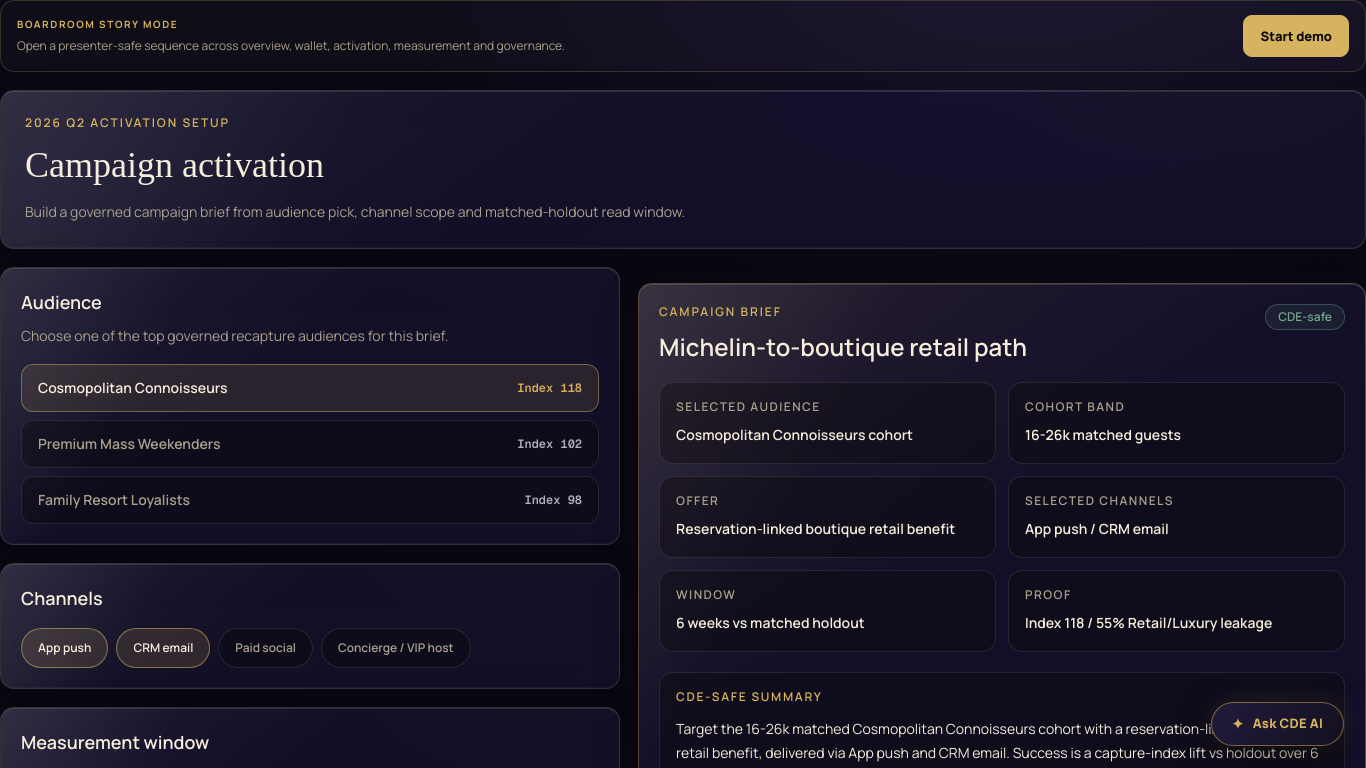
ConstellationRedesignScreen › renders Activation with working audience, channel, window, export, and AI controls
Expected: the heading "Campaign activation" is shown, [25,145,324,185]
Expected: the heading "Audience" is shown, [21,290,102,314]
Click the button named "Select Premium Mass Weekenders" at [129, 444], box [21,420,599,468]
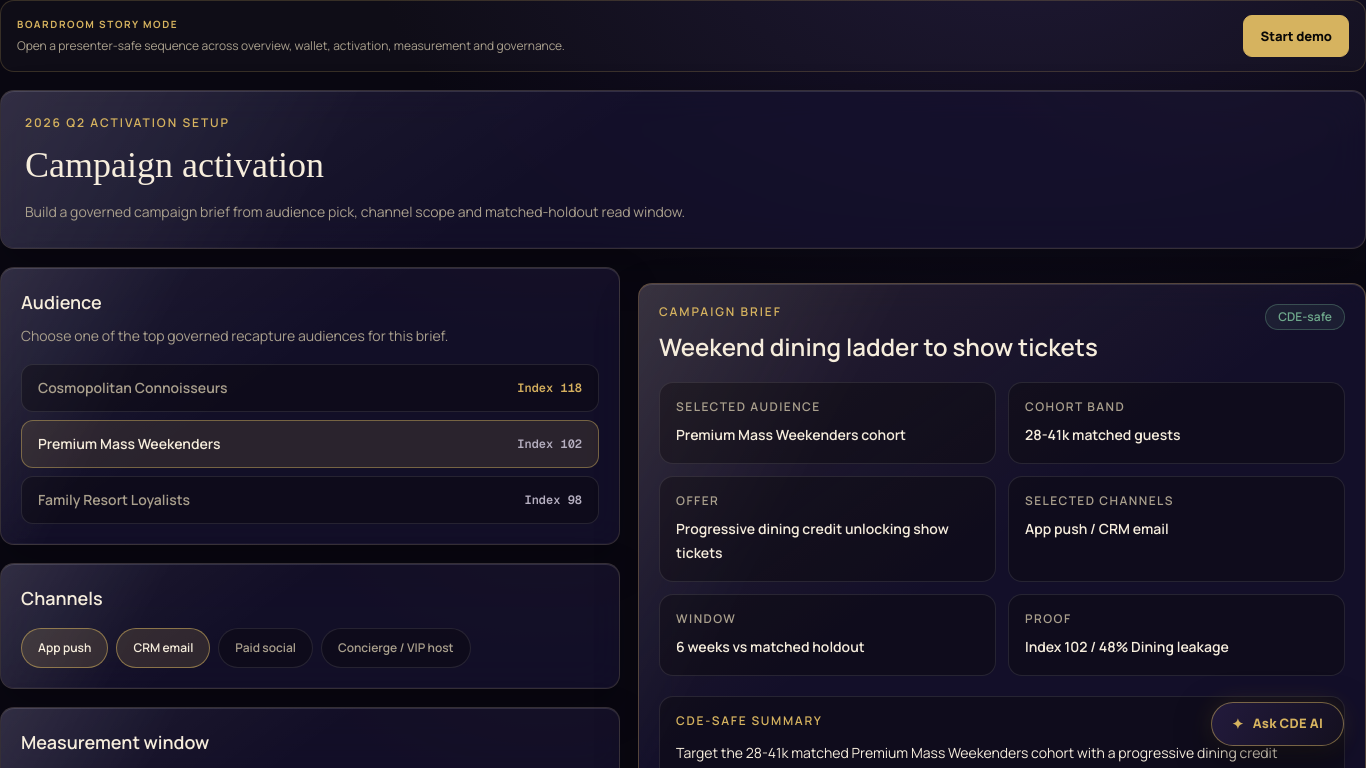
Expected: the text "Premium Mass Weekenders" is shown, [38,434,220,454]
Click the button "Paid social" at [266, 648], box [218,628,313,668]
(page scrolled)
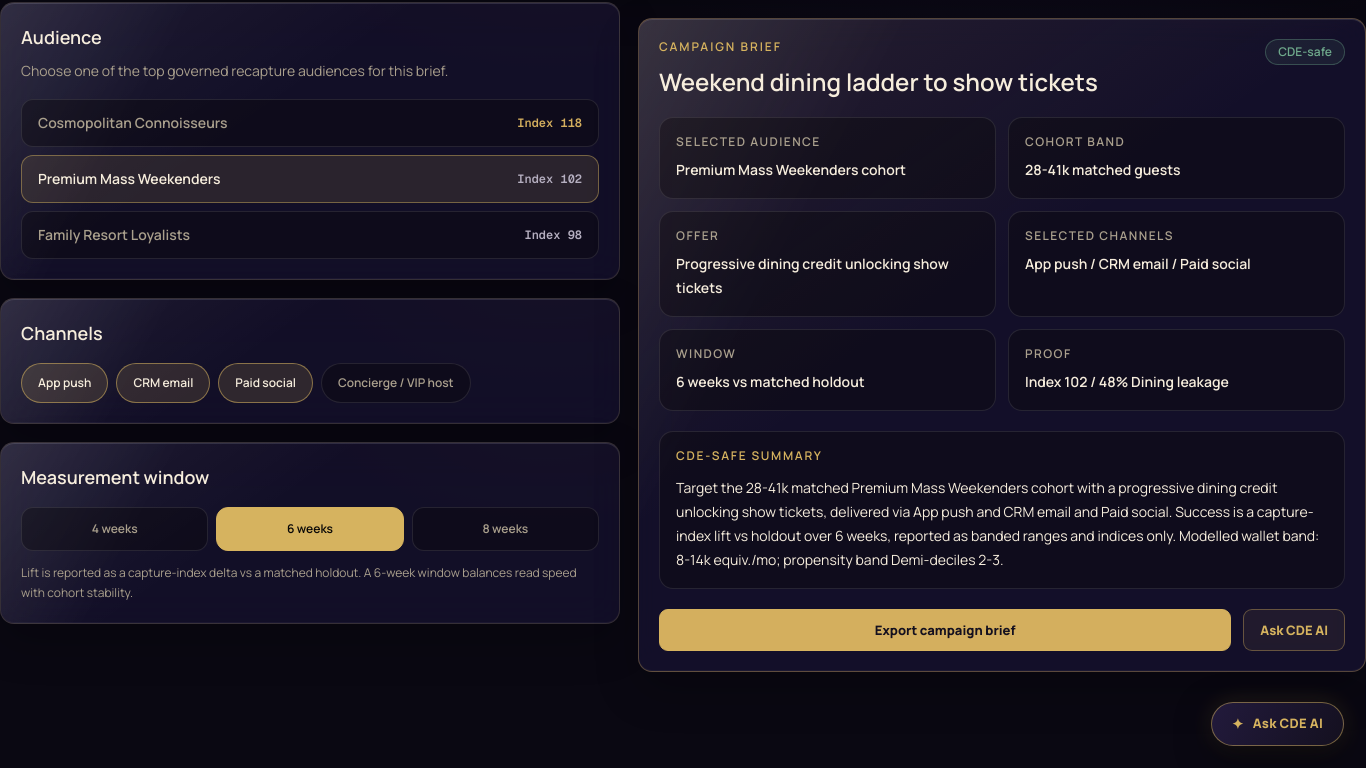
Now the text "App push / CRM email / Paid social" is shown, box [1025,254,1251,273]
Click the button "8 weeks" at [505, 529], box [412,507,599,551]
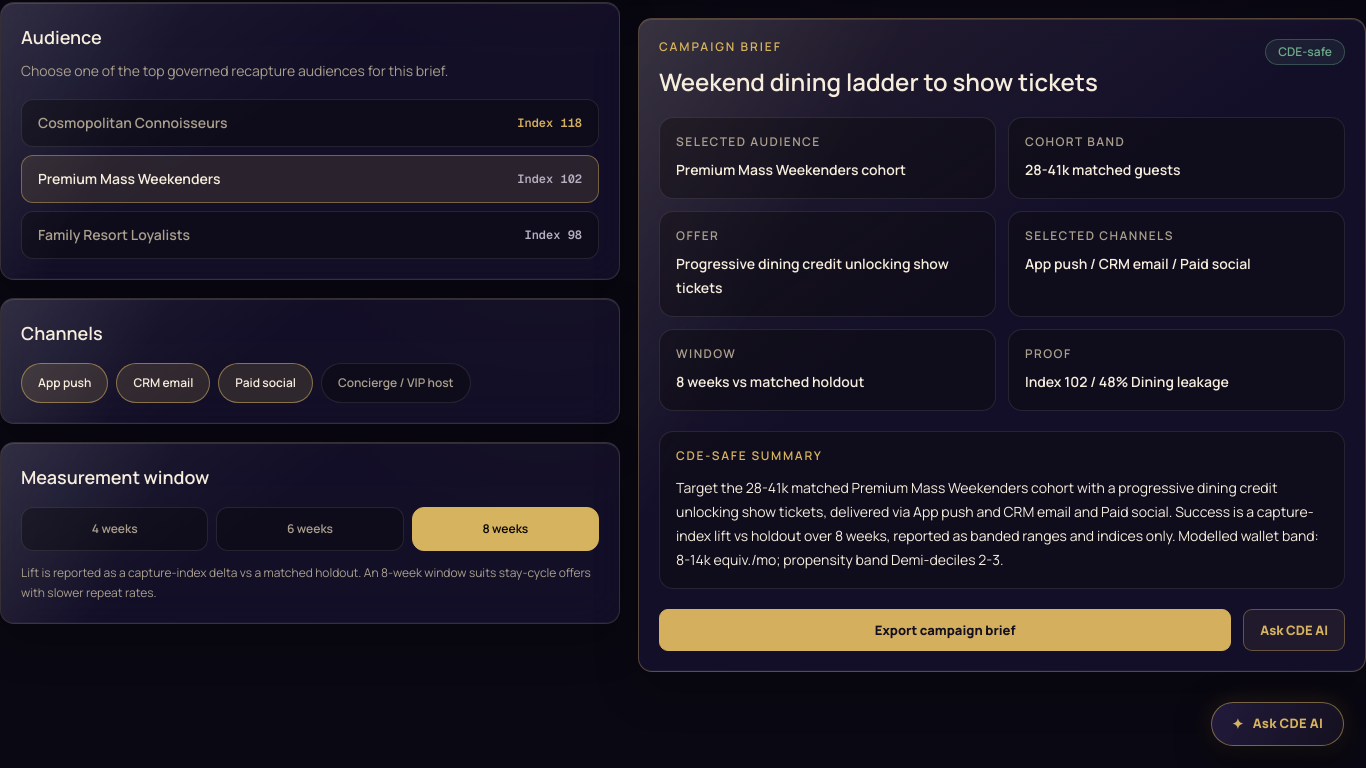
Now the text "8 weeks vs matched holdout" is shown, box [676,372,864,391]
Click the button "Export campaign brief" at [945, 630], box [659,609,1231,651]
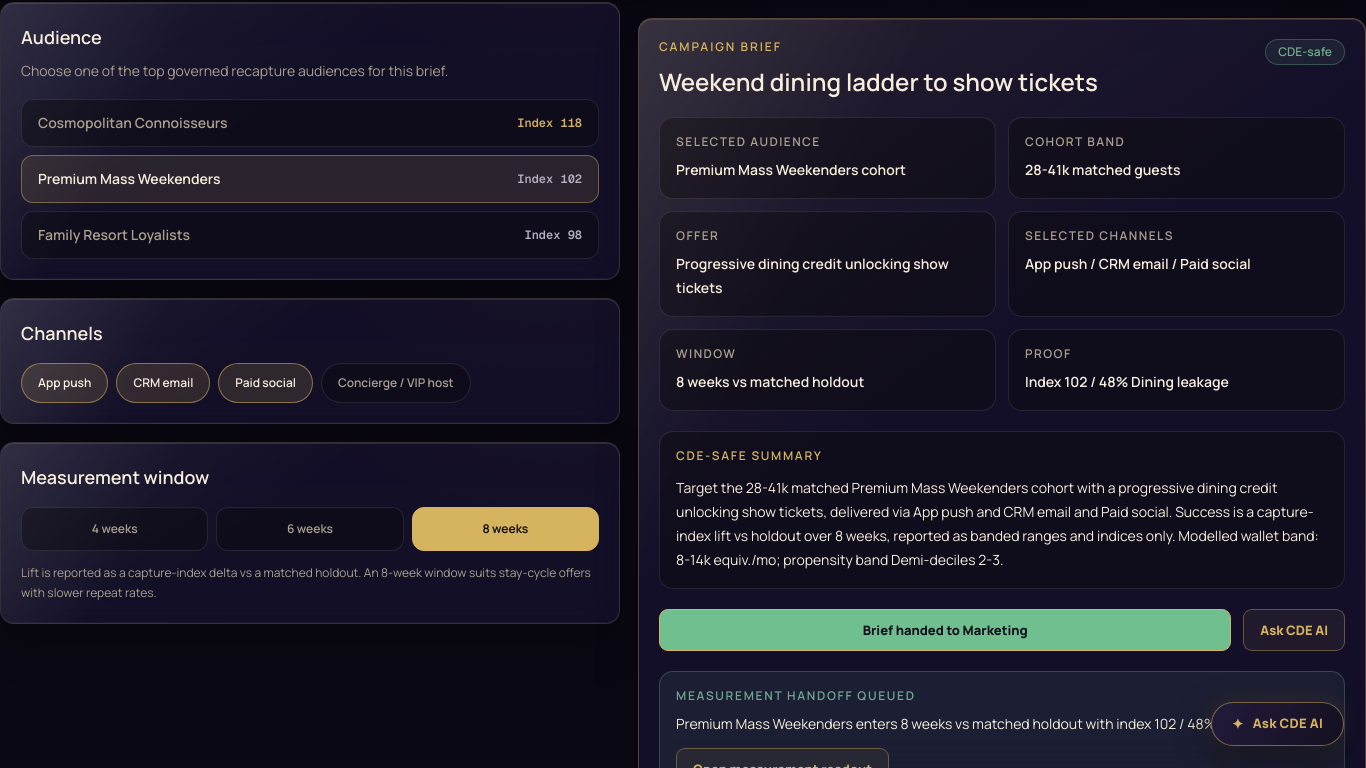
Now the button "Brief handed to Marketing" is shown, box [659,609,1231,651]
Now the text "Measurement handoff queued" is shown, box [676,687,916,704]
Now the text "Premium Mass Weekenders" is shown, box [676,714,853,733]
Click the button "Ask CDE AI" at [1294, 630], box [1243,609,1345,651]
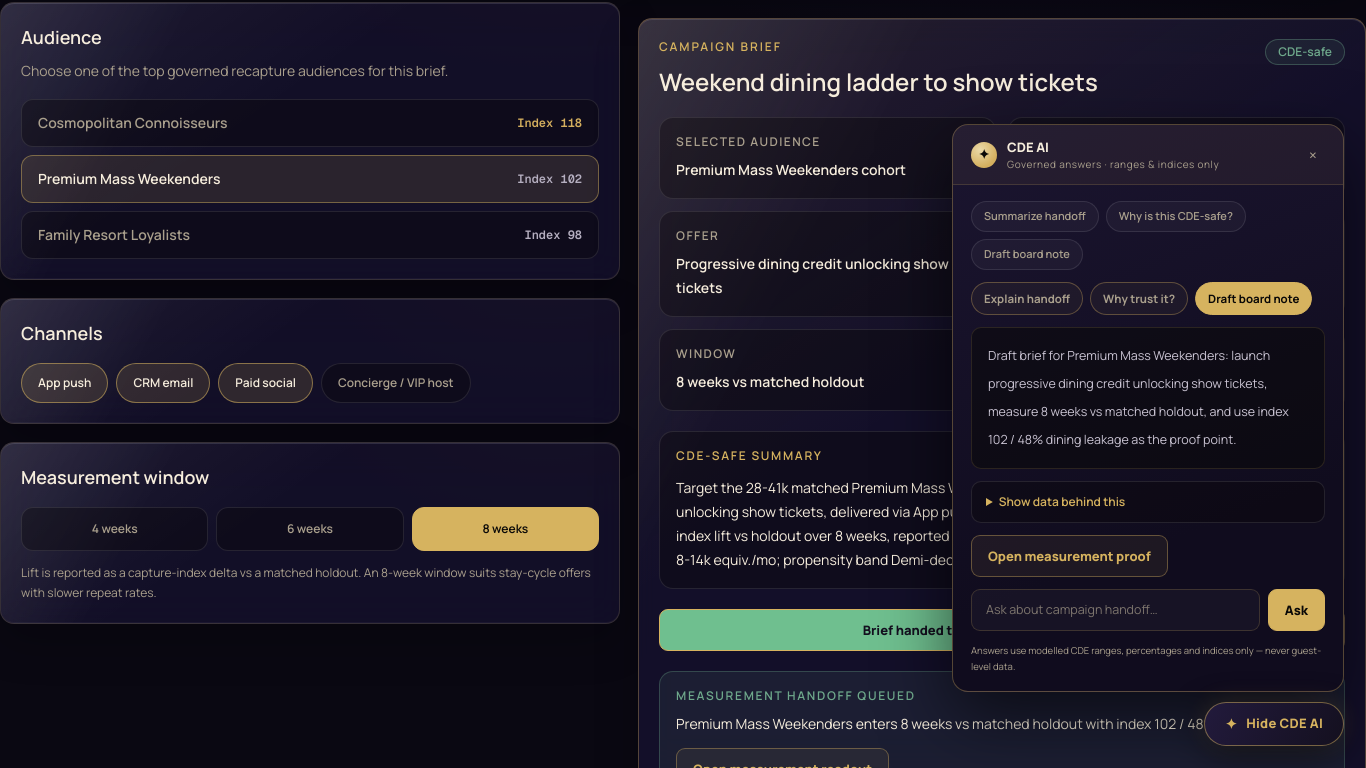
Expected: the number of elements "CDE AI" is 1, [952,124,1344,746]
Now the button "✦ Hide CDE AI" is expanded, box [1204,702,1344,746]
Now the text "Draft brief for Premium Mass Weekenders" is shown, box [988,347,1289,448]
